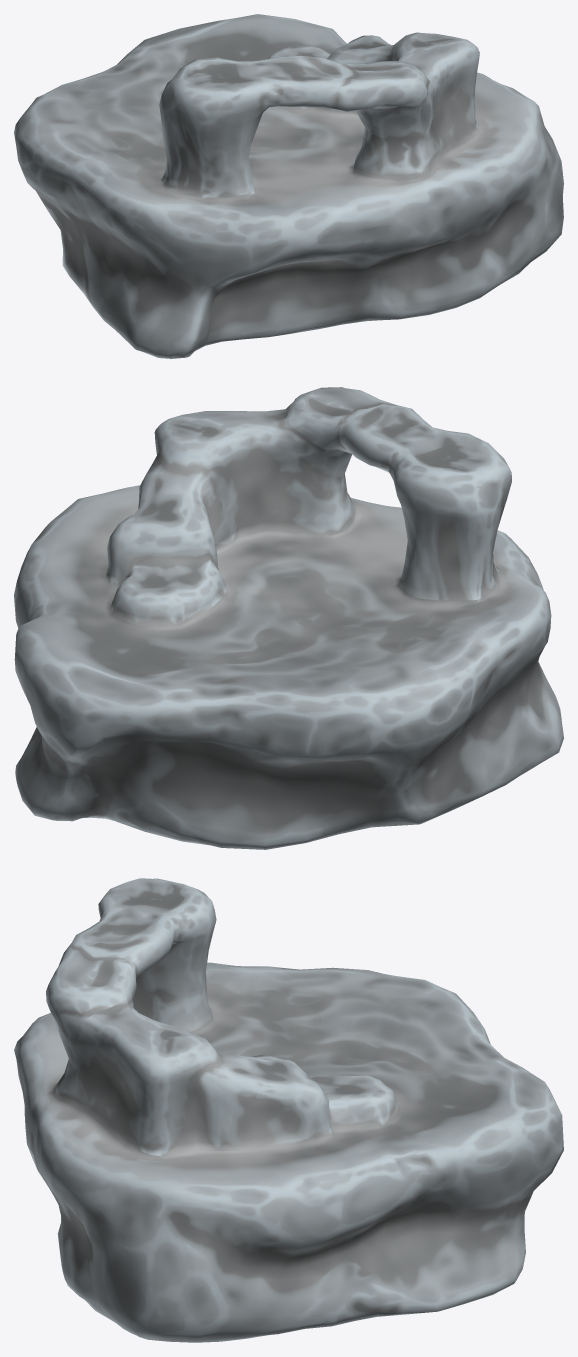
File: PenguinBooth002.fbx
The picture shows the model from 3 angles, top to bottom: view 1: azimuth 30°, elevation 25°; view 2: azimuth 150°, elevation 25°; view 3: azimuth 270°, elevation 25°; orthographic projection. The views are drawn at different scales.
Parts seen in each view (by area): view 1: rock_base_low; view 2: rock_base_low; view 3: rock_base_low.
Boxes of the visible parts, x1,y1,x2,y2 form: rock_base_low: [14, 14, 563, 358]; rock_base_low: [14, 387, 563, 849]; rock_base_low: [14, 878, 563, 1342].
Bounding box in the file's own units: 0.3073 × 0.1716 × 0.2979.
Materials: 1 (1 with a texture image).
